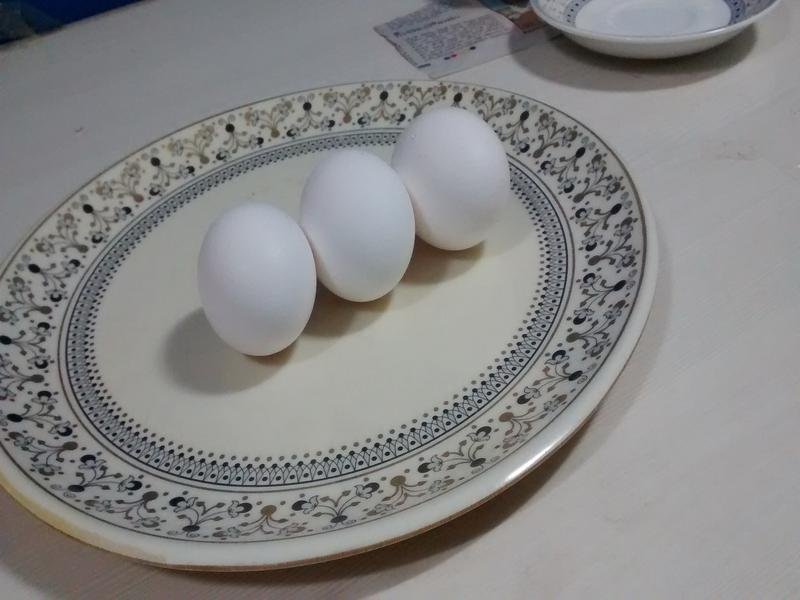egg: (201, 204, 319, 355)
